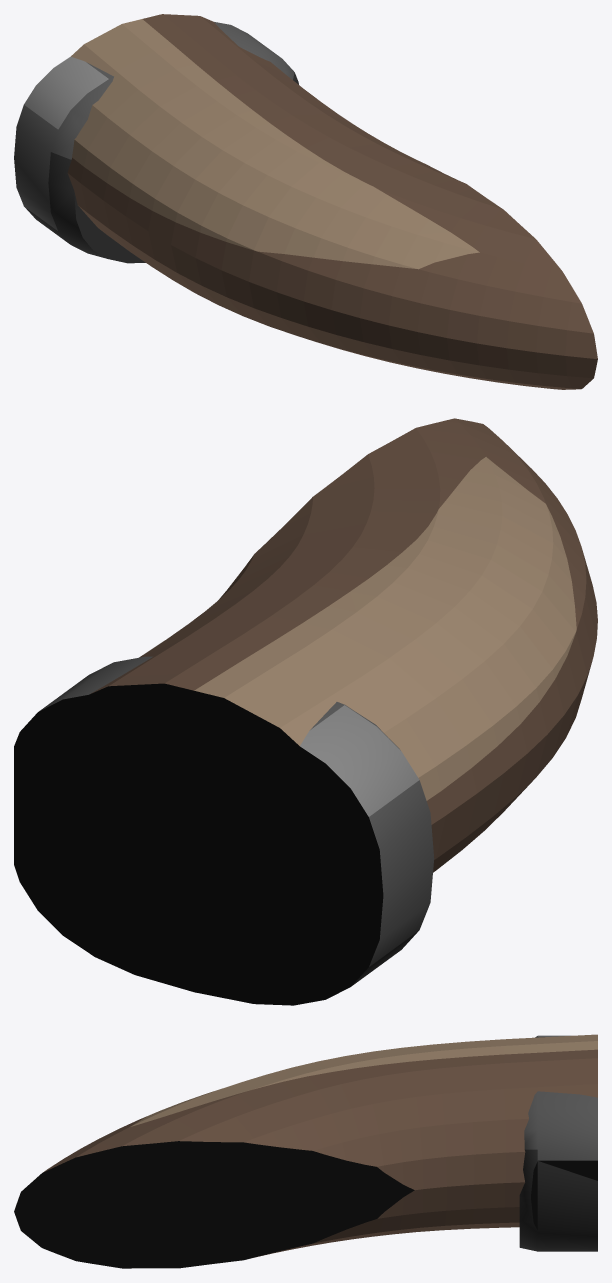
File: tusk_boss_124.glb
3 views of the same model, one above another, from view 1: azimuth 30°, elevation 25°; view 2: azimuth 150°, elevation 25°; view 3: azimuth 270°, elevation 25° (orthographic). The views are drawn at different scales.
Visible parts, largest first — view 1: tusk_boss_124; view 2: tusk_boss_124; view 3: tusk_boss_124.
Boxes of the visible parts, bbox=[...] form: tusk_boss_124: bbox=[14, 14, 597, 389]; tusk_boss_124: bbox=[14, 418, 597, 1005]; tusk_boss_124: bbox=[14, 1034, 597, 1268].
Size of the model in its own units: 8.4 by 6.55 by 19.41.
